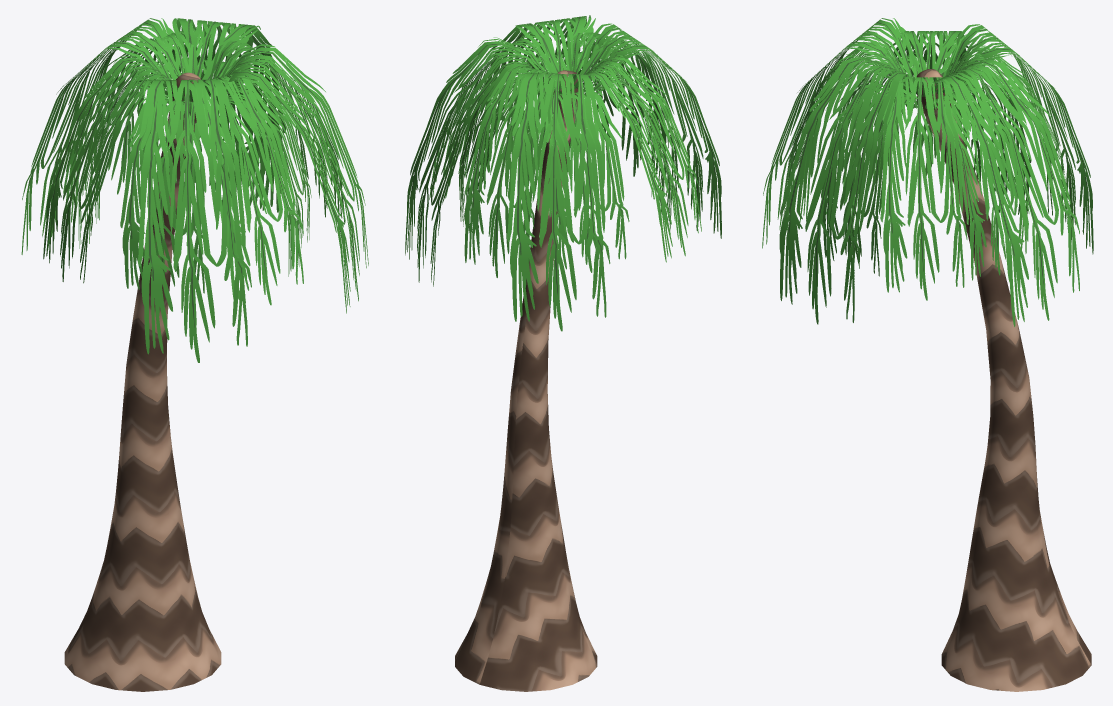
Rendered from Tree2Model.fbx.
3 renders of one model, left to right at view 1: azimuth 30°, elevation 25°; view 2: azimuth 150°, elevation 25°; view 3: azimuth 270°, elevation 25°, orthographic. The views are drawn at different scales.
Parts seen in each view (by area): view 1: Tree_SlightCurve, Plane040, Plane033, Plane036, Plane039, Plane037, Plane044, Plane038, Plane034, Plane043, Plane035, Plane042 (+1 smaller); view 2: Tree_SlightCurve, Plane037, Plane038, Plane033, Plane034, Plane040, Plane041, Plane036, Plane039, Plane035, Plane042, Plane044 (+1 smaller); view 3: Tree_SlightCurve, Plane039, Plane038, Plane035, Plane037, Plane042, Plane040, Plane043, Plane033, Plane034, Plane036, Plane041 (+1 smaller).
Part boxes in pixels (box(x1,y1,x2,y2)): Tree_SlightCurve: box(64, 72, 221, 691); Plane040: box(137, 79, 251, 362); Plane033: box(43, 54, 170, 283); Plane036: box(183, 74, 303, 305); Plane039: box(223, 44, 368, 313); Plane037: box(21, 18, 179, 254); Plane044: box(120, 97, 204, 299); Plane038: box(172, 18, 285, 212); Plane034: box(84, 27, 204, 194); Plane043: box(217, 77, 311, 276); Plane035: box(210, 40, 344, 224); Plane042: box(181, 57, 268, 208); Tree_SlightCurve: box(455, 70, 597, 691); Plane037: box(507, 73, 610, 331); Plane038: box(405, 37, 543, 286); Plane033: box(575, 55, 701, 262); Plane034: box(464, 63, 562, 277); Plane040: box(586, 23, 721, 238); Plane041: box(544, 90, 629, 272); Plane036: box(567, 28, 666, 176); Plane039: box(473, 15, 595, 189); Plane035: box(429, 29, 555, 199); Plane042: box(459, 69, 545, 247); Plane044: box(583, 63, 672, 230); Tree_SlightCurve: box(916, 69, 1091, 691); Plane039: box(779, 54, 916, 324); Plane038: box(931, 57, 1079, 326); Plane035: box(880, 77, 967, 300); Plane037: box(945, 24, 1093, 254); Plane042: box(925, 86, 1029, 280); Plane040: box(762, 18, 913, 248); Plane043: box(821, 81, 917, 276); Plane033: box(888, 31, 969, 176); Plane034: box(950, 45, 1068, 228); Plane036: box(782, 40, 905, 215); Plane041: box(941, 57, 1031, 214).
Bounding box in the file's own units: 431 × 953 × 484.
2 materials, 2 textured.
